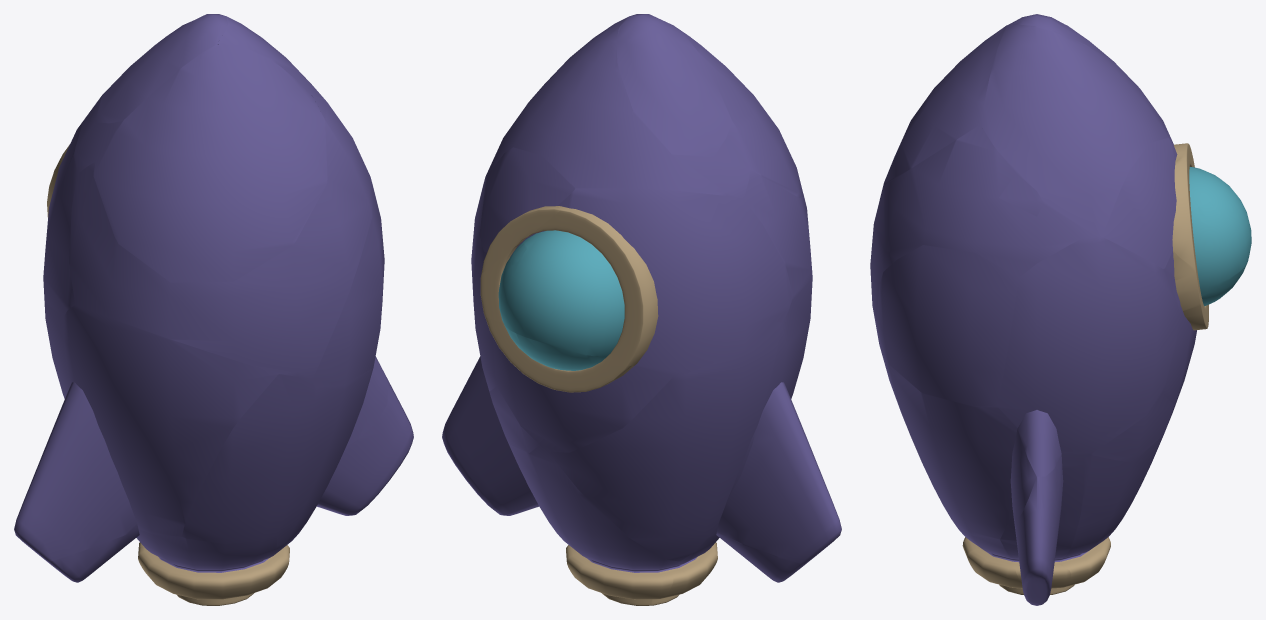
The model's file is Ship Purple Fractured.fbx.
3 renders of one model, left to right at view 1: azimuth 30°, elevation 25°; view 2: azimuth 150°, elevation 25°; view 3: azimuth 270°, elevation 25°, orthographic.
Parts seen in each view (by area): view 1: Body_shard.011, Body_shard.006, Body_shard, Body_shard.016, Body_shard.014, Body_shard.005, Body_shard.018, Body_shard.012, Body_shard.008, Body_shard.009, Body_shard.001, Body_shard.015 (+1 smaller); view 2: Body_shard.009, Body_shard.015, Body_shard.001, Body_shard.006, Body_shard.017, Body_shard.008, Body_shard.004, Body_shard.012, Body_shard.013, Body_shard.011, Body_shard, Body_shard.014 (+2 smaller); view 3: Body_shard.007, Body_shard.001, Body_shard.018, Body_shard, Body_shard.005, Body_shard.013, Body_shard.012, Body_shard.009, Body_shard.011, Body_shard.004, Body_shard.017, Body_shard.002 (+3 smaller).
Part boxes in pixels (box(x1,y1,x2,y2)): Body_shard.011: box(93, 44, 327, 282); Body_shard.006: box(14, 305, 278, 561); Body_shard: box(69, 96, 372, 379); Body_shard.016: box(182, 374, 316, 543); Body_shard.014: box(44, 529, 276, 605); Body_shard.005: box(276, 358, 388, 545); Body_shard.018: box(312, 187, 384, 387); Body_shard.012: box(316, 366, 413, 515); Body_shard.008: box(95, 14, 227, 123); Body_shard.009: box(43, 121, 82, 316); Body_shard.001: box(73, 17, 323, 173); Body_shard.015: box(44, 302, 70, 398); Body_shard.009: box(480, 188, 792, 375); Body_shard.015: box(548, 325, 780, 561); Body_shard.001: box(487, 14, 750, 199); Body_shard.006: box(709, 266, 841, 563); Body_shard.017: box(485, 317, 673, 452); Body_shard.008: box(616, 14, 732, 156); Body_shard.004: box(509, 444, 679, 605); Body_shard.012: box(442, 364, 569, 552); Body_shard.013: box(479, 147, 575, 273); Body_shard.011: box(673, 25, 803, 197); Body_shard: box(744, 169, 811, 295); Body_shard.014: box(650, 532, 811, 605); Body_shard.007: box(997, 236, 1179, 477); Body_shard.001: box(980, 24, 1168, 238); Body_shard.018: box(877, 245, 1018, 407); Body_shard: box(870, 125, 1080, 327); Body_shard.005: box(881, 342, 1036, 539); Body_shard.013: box(1102, 137, 1220, 269); Body_shard.012: box(1000, 454, 1084, 605); Body_shard.009: box(1156, 111, 1251, 313); Body_shard.011: box(883, 25, 1007, 185); Body_shard.004: box(1050, 414, 1171, 594); Body_shard.017: box(1162, 262, 1247, 411); Body_shard.002: box(1091, 393, 1173, 462).
Size of the model in its own units: 325 by 447 by 274.
